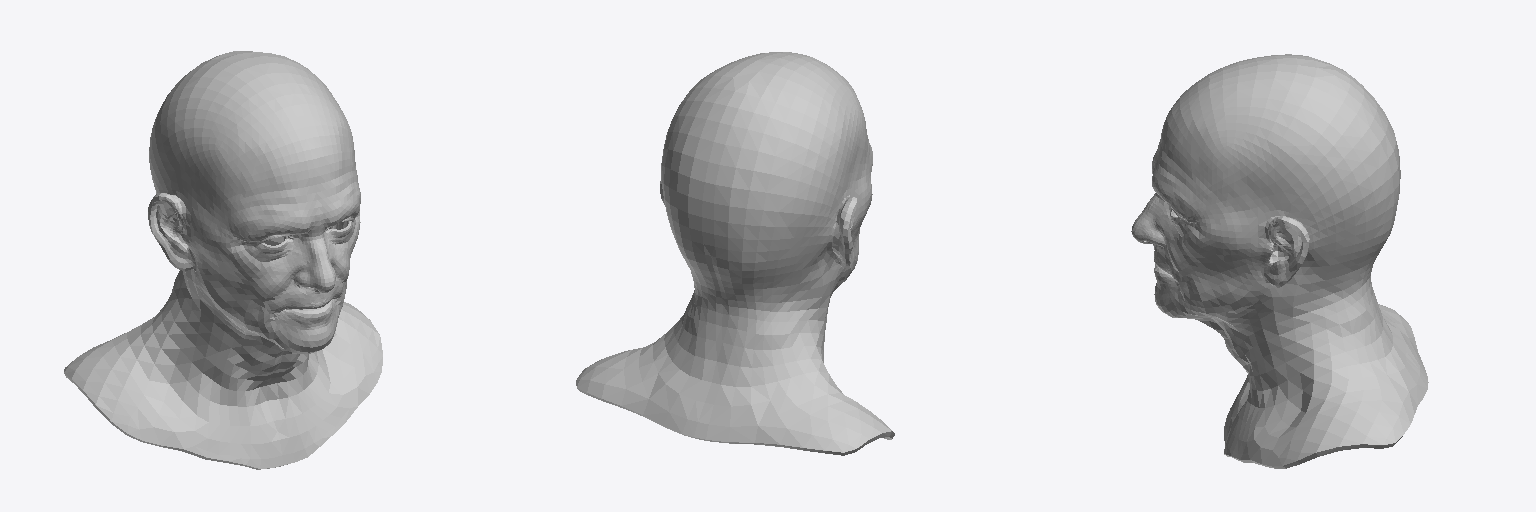
Rendered from wholeFace_NasalCartilage.obj.
3 renders of one model, left to right at view 1: azimuth 30°, elevation 25°; view 2: azimuth 150°, elevation 25°; view 3: azimuth 270°, elevation 25°, orthographic.
Size of the model in its own units: 25.29 by 32.26 by 22.63.